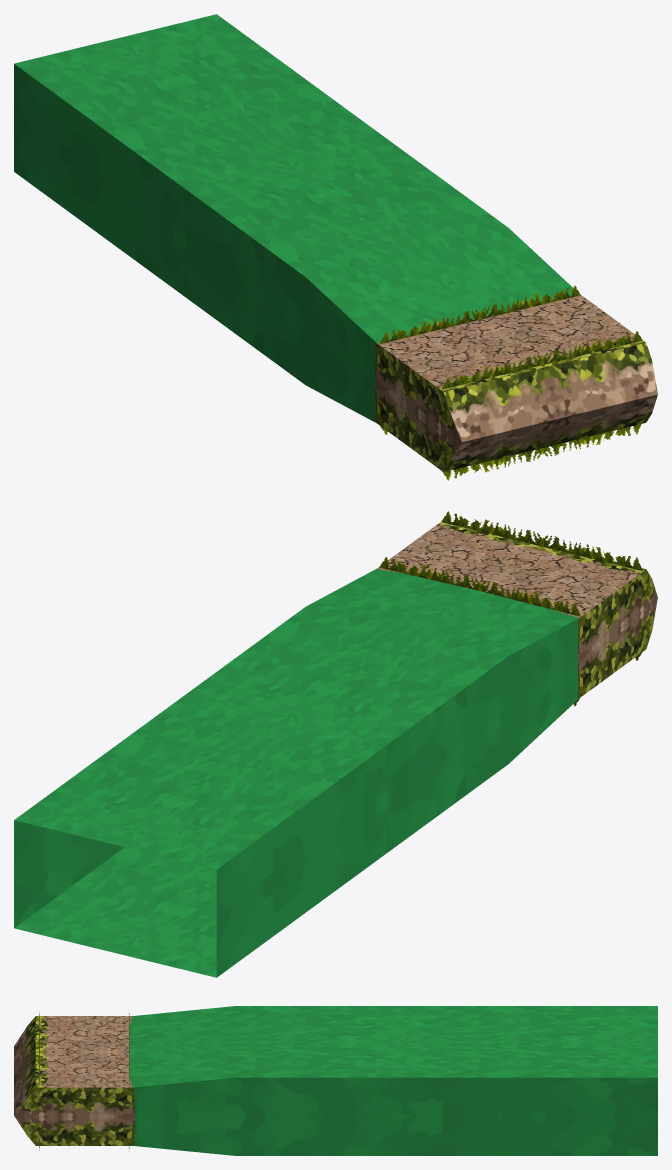
File: terreno_13.FBX
3 renders of one model, top to bottom at view 1: azimuth 30°, elevation 25°; view 2: azimuth 150°, elevation 25°; view 3: azimuth 270°, elevation 25°, orthographic. The views are drawn at different scales.
Visible parts, largest first — view 1: Terreno015; view 2: Terreno015; view 3: Terreno015.
Boxes of the visible parts, bbox=[...] form: Terreno015: bbox=[14, 14, 657, 480]; Terreno015: bbox=[14, 511, 657, 977]; Terreno015: bbox=[14, 1006, 657, 1155].
Size of the model in its own units: 3.8 by 14.42 by 1.93.
Materials: 2 (2 with a texture image).
